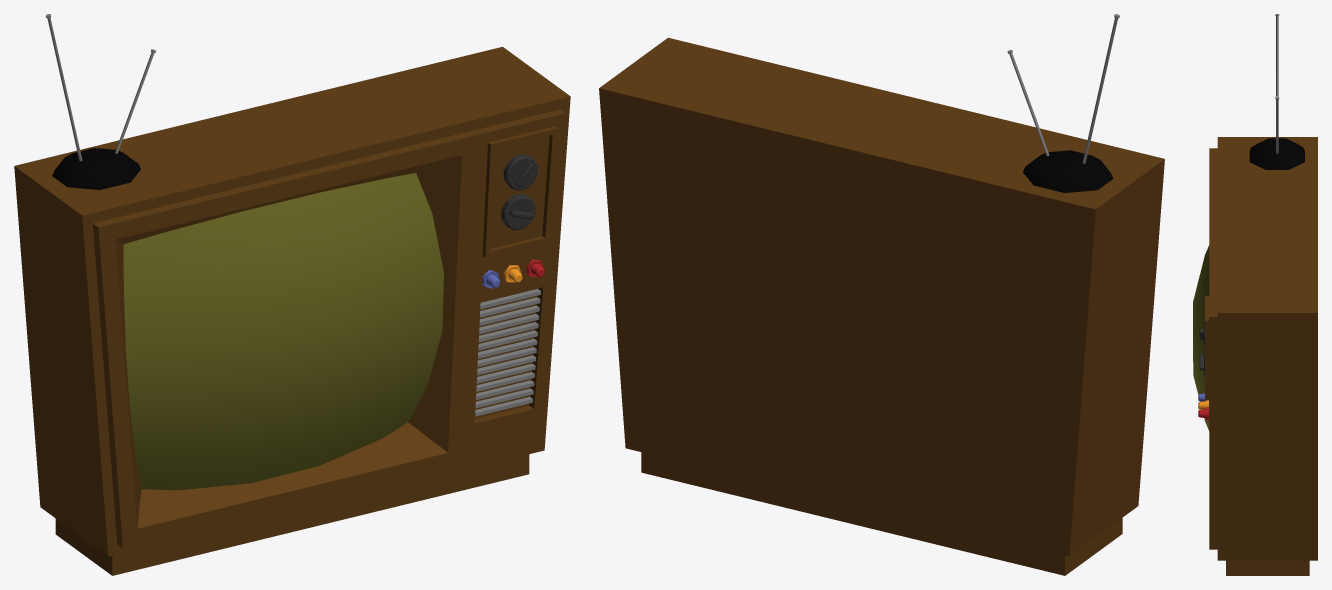
The model's file is Prop_TV.FBX.
The picture shows the model from 3 angles, left to right: view 1: azimuth 30°, elevation 25°; view 2: azimuth 150°, elevation 25°; view 3: azimuth 270°, elevation 25°; orthographic projection. The views are drawn at different scales.
Parts seen in each view (by area): view 1: Box001; view 2: Box001; view 3: Box001.
Boxes of the visible parts, x1,y1,x2,y2 form: Box001: (14, 14, 570, 575); Box001: (599, 14, 1164, 575); Box001: (1193, 14, 1317, 575).
Bounding box in the file's own units: 50 × 53.09 × 14.99.
1 material, 1 textured.
